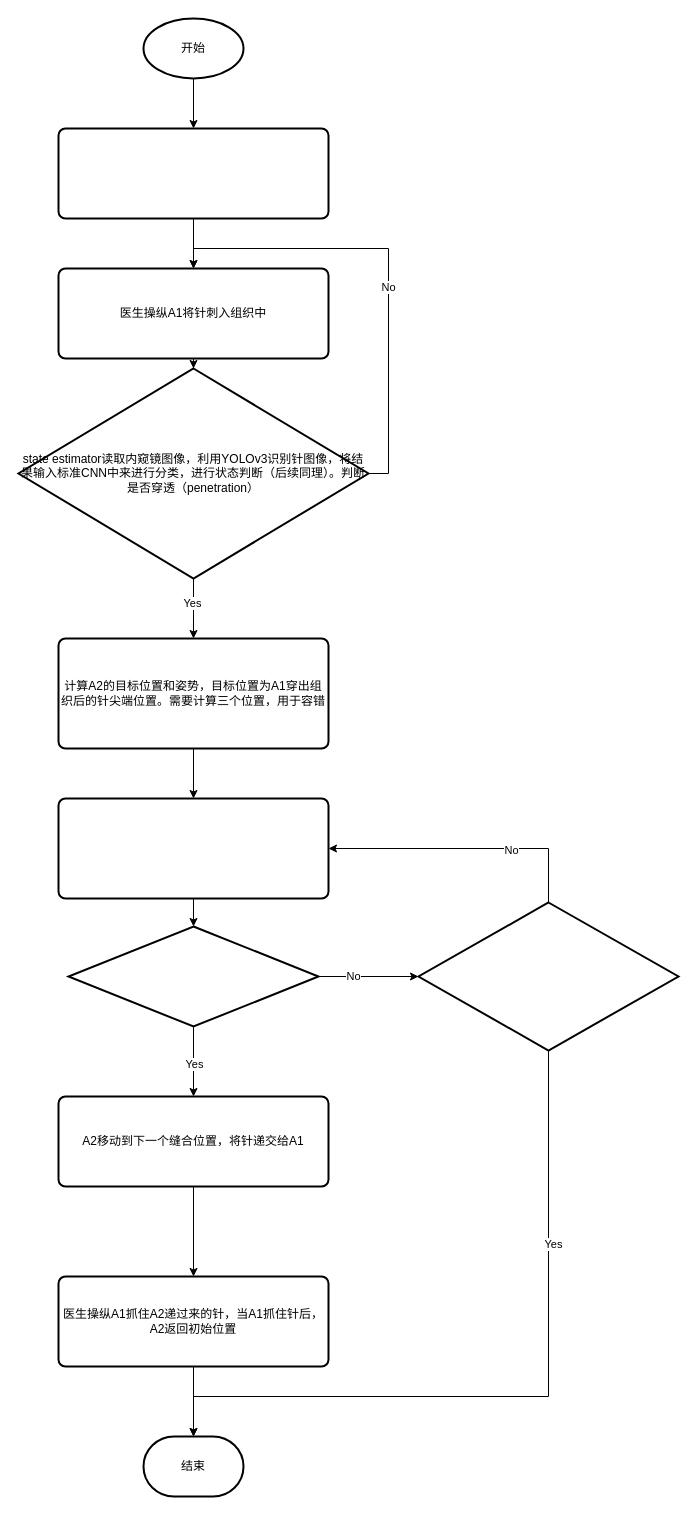
Some shapes in this 696 by 1514 pixel diagram are drawn without their labels. The shapes that lost their labels are listed below. From the top down, each one's box as (x1, y1, x2, y2) in pixels, then its label:
(57, 127, 329, 219): 本文有A1和A2两个机械臂，医生操纵A1进行插入，机器操纵A2完成拔针和递针操作；利用CNN来识别状态
(57, 797, 329, 899): A2移动到目标位置并尝试拔针
(67, 925, 319, 1027): state estimator判断拔针是否成功
(417, 901, 679, 1051): 是否三次拔针都失败了
